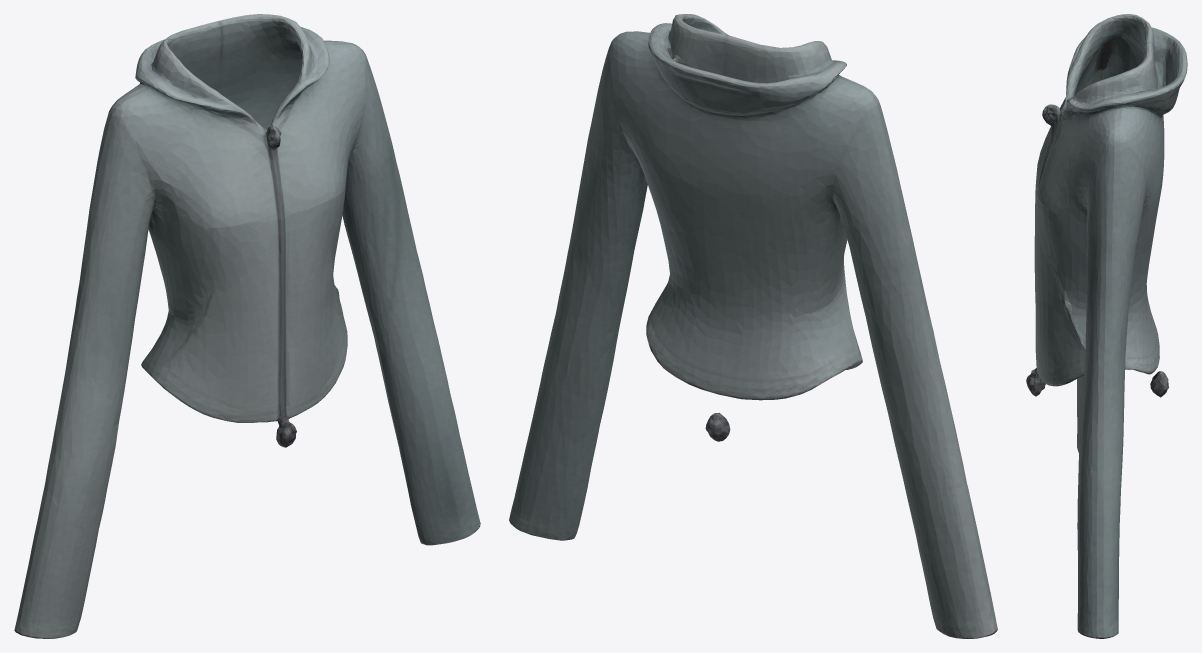
File: greycoat.glb
3 views of the same model, side by side, from view 1: azimuth 30°, elevation 25°; view 2: azimuth 150°, elevation 25°; view 3: azimuth 270°, elevation 25° (orthographic). The views are drawn at different scales.
Visible parts, largest first — view 1: world; view 2: world; view 3: world.
Part boxes in pixels (left/top/right/bottom): world: left=14, top=14, right=480, bottom=638; world: left=509, top=14, right=997, bottom=638; world: left=1026, top=14, right=1187, bottom=638.
Size of the model in its own units: 0.887 by 0.9981 by 0.2918.
1 material, 1 textured.
